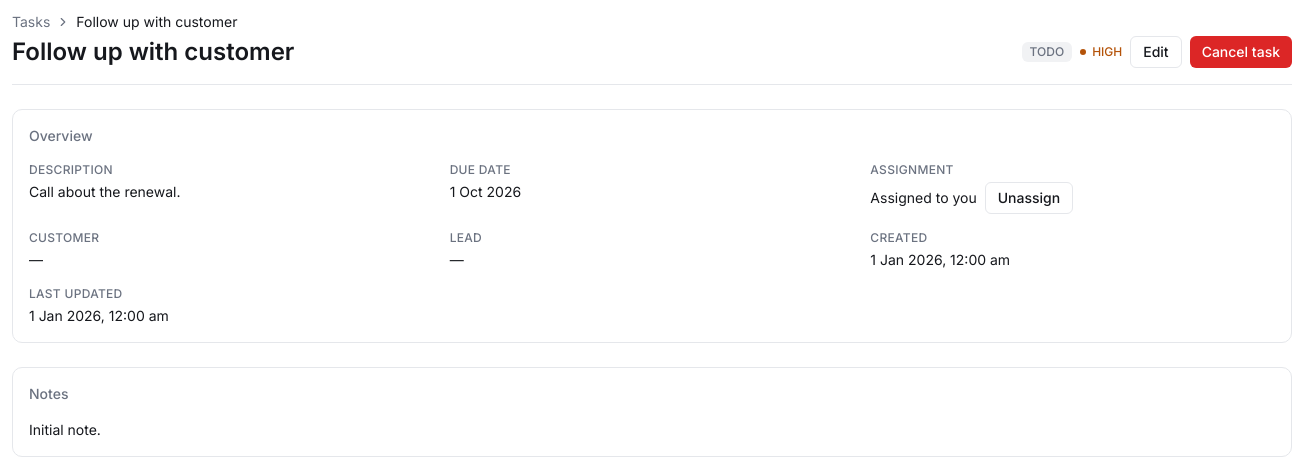
TaskDetailPage › unassignment: clicking Unassign returns to Assign to me
Expected: the heading "Follow up with customer" is shown, [12,36,294,68]
Click the button "Unassign": (1029, 198) [985,182,1073,214]
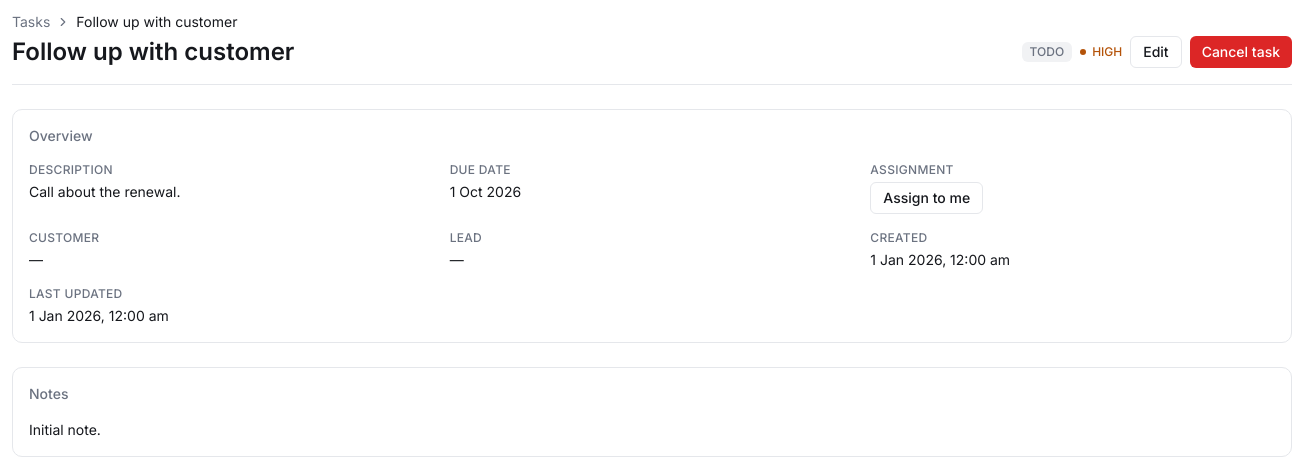
Now the button "Assign to me" is shown, box [870,182,983,214]
